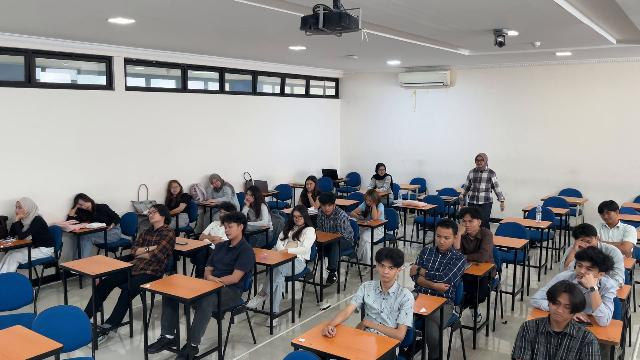bosan: (549, 297, 572, 321), (575, 261, 598, 279), (378, 262, 396, 282), (436, 230, 452, 250), (462, 217, 476, 233), (578, 237, 596, 248), (224, 223, 236, 239), (600, 211, 614, 223), (148, 207, 159, 222), (321, 203, 333, 215), (293, 212, 304, 225), (15, 202, 25, 215), (79, 200, 92, 210), (171, 183, 180, 194), (246, 191, 254, 203), (212, 179, 221, 188), (306, 181, 314, 191), (366, 196, 372, 206)
